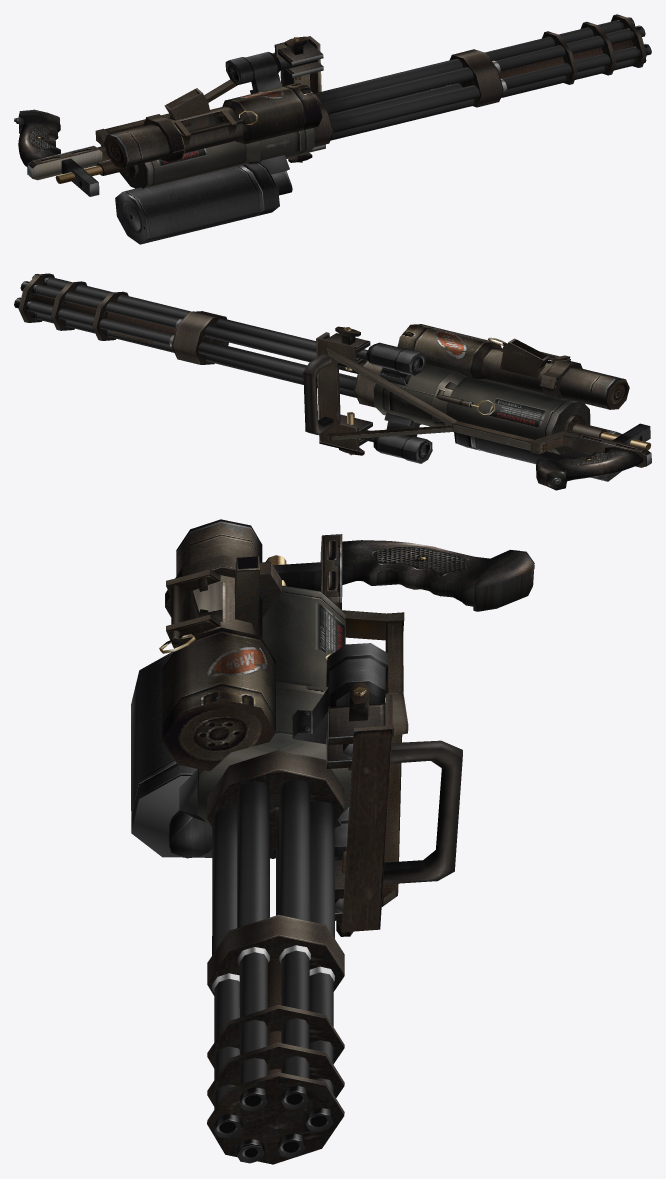
File: gun.obj
3 renders of one model, top to bottom at view 1: azimuth 30°, elevation 25°; view 2: azimuth 150°, elevation 25°; view 3: azimuth 270°, elevation 25°, orthographic. The views are drawn at different scales.
Parts seen in each view (by area): view 1: world_m249; view 2: world_m249; view 3: world_m249.
Boxes of the visible parts, <box> form: world_m249: <box>14,14,651,244</box>; world_m249: <box>14,273,651,490</box>; world_m249: <box>131,519,534,1164</box>.
Bounding box in the file's own units: 43.2 × 8.39 × 12.74.
6 materials, 6 textured.
